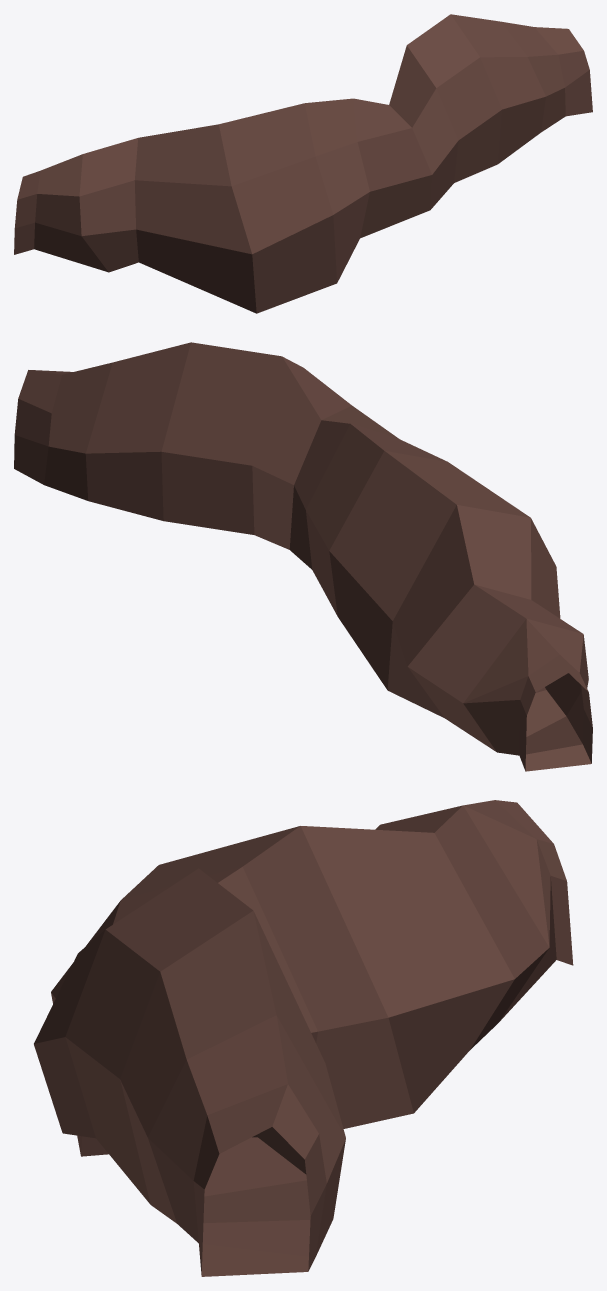
The model's file is Tunnel-A06.fbx.
3 renders of one model, top to bottom at view 1: azimuth 30°, elevation 25°; view 2: azimuth 150°, elevation 25°; view 3: azimuth 270°, elevation 25°, orthographic. The views are drawn at different scales.
Visible parts, largest first — view 1: Tunnel-A06; view 2: Tunnel-A06; view 3: Tunnel-A06.
Part boxes in pixels (left/top/right/bottom): Tunnel-A06: left=14, top=14, right=592, bottom=313; Tunnel-A06: left=14, top=342, right=592, bottom=771; Tunnel-A06: left=34, top=800, right=573, bottom=1276.
Bounding box in the file's own units: 1838 × 851 × 758.
